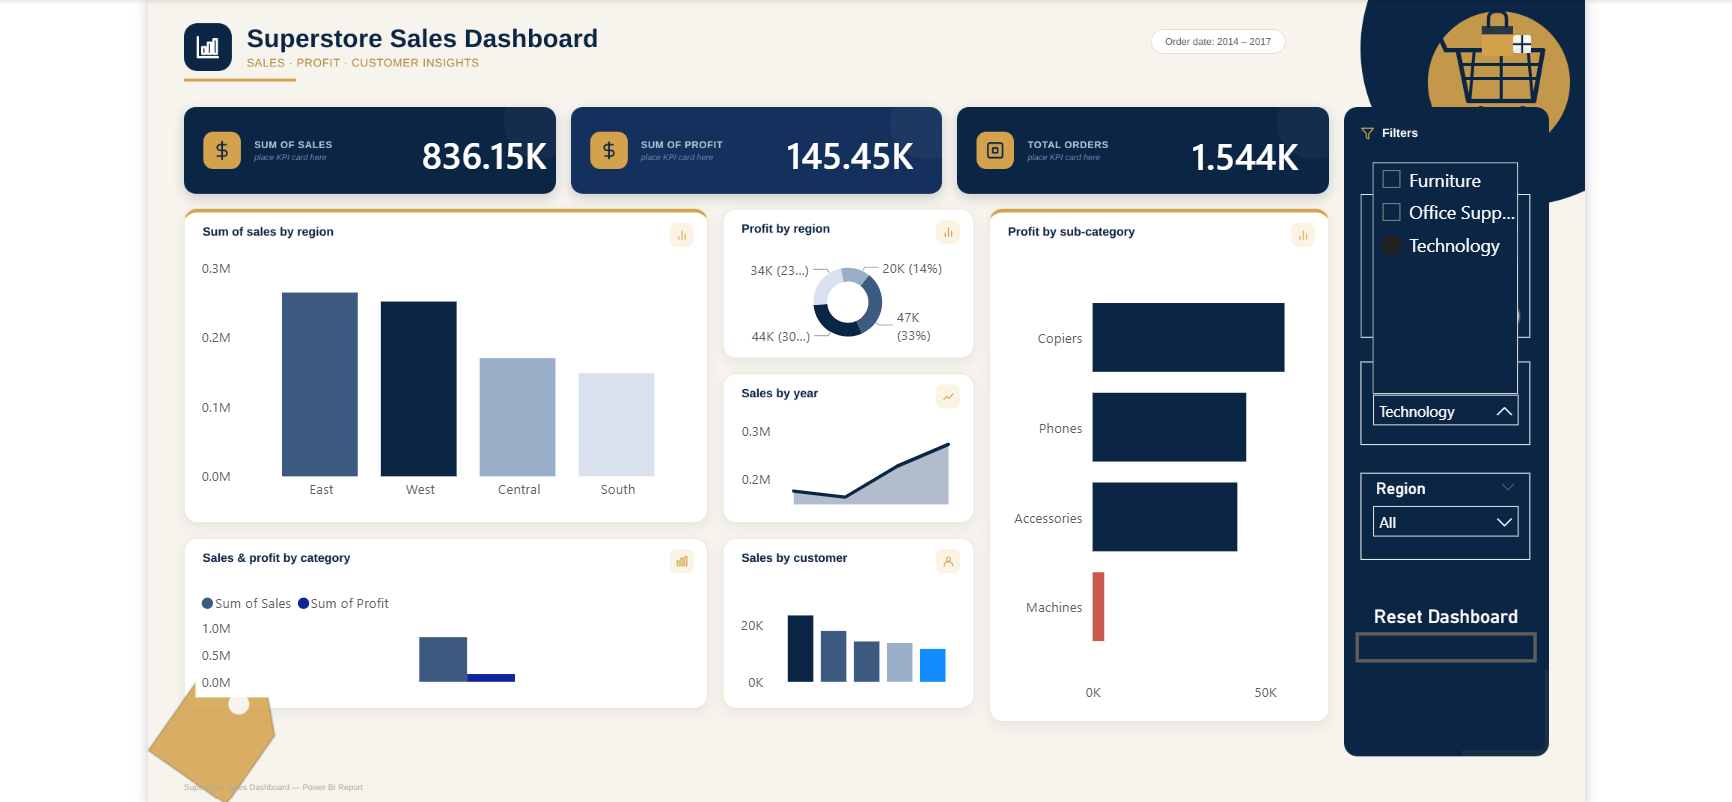

What the dashboard file says about the page in this screenshot:
{"tool":"powerbi","page":{"name":"Page 1","canvas":[1280,720],"ordinal":0},"visuals":[{"type":"cardVisual","fields":{"Data":["Sum(Orders.Sales)"]},"box":[214.8,84.6,200.4,106.9],"z":0},{"type":"cardVisual","fields":{"Data":["Sum(Orders.Profit)"]},"box":[539.9,84.6,200.4,106.9],"z":1000},{"type":"cardVisual","fields":{"Data":["Count(Orders.Order ID)"]},"box":[900.6,87.9,200.4,100.2],"z":2000},{"type":"clusteredColumnChart","fields":{"Category":["Orders.Region"],"Y":["Sum(Orders.Sales)"]},"box":[42.3,226,452,229.3],"z":3000},{"type":"donutChart","fields":{"Category":["Orders.Region"],"Y":["Sum(Orders.Profit)"]},"box":[518.6,225.6,209.3,88.4],"z":4000},{"type":"clusteredColumnChart","fields":{"Category":["Orders.Category"],"Y":["Sum(Orders.Sales)","Sum(Orders.Profit)"]},"box":[42.3,518.7,452,103.5],"z":5000},{"type":"clusteredBarChart","fields":{"Category":["Orders.Sub-Category"],"Y":["Sum(Orders.Profit)"]},"box":[761.4,226,279.4,409.6],"z":6000},{"type":"areaChart","fields":{"Category":["Orders.Order Date.Variation.Date Hierarchy.Year"],"Y":["Sum(Orders.Sales)"]},"box":[523.2,370.7,204.8,84.6],"z":7000},{"type":"clusteredColumnChart","fields":{"Category":["Orders.Customer Name"],"Y":["Sum(Orders.Sales)"]},"box":[523.2,518.7,204.8,103.5],"z":8000},{"type":"shape","box":[1067.4,138.4,176.7,531.4],"z":9000},{"type":"slicer","fields":{"Values":["Orders.Order Date"]},"box":[1079.8,173.7,151.4,128],"z":10000},{"type":"slicer","fields":{"Values":["Orders.Category"]},"box":[1079.8,322.8,151.4,74.6],"z":11000},{"type":"slicer","fields":{"Values":["Orders.Region"]},"box":[1079.8,421.9,151.4,77.9],"z":12000},{"type":"actionButton","title":"Reset Dashboard","box":[1075.3,539.9,161.4,51.2],"z":13000}]}

Visuals, with their boxes on the page's 1280x720 design canvas (x1, y1, x2, y2). These are canvas units, not pixel positions in the 1732x802 screenshot, which may show the page scaled, cropped or inside an application window:
cardVisual - Sum(Orders.Sales): locate(215, 85, 415, 192)
cardVisual - Sum(Orders.Profit): locate(540, 85, 740, 192)
cardVisual - Count(Orders.Order ID): locate(901, 88, 1101, 188)
clusteredColumnChart - Orders.Region x Sum(Orders.Sales): locate(42, 226, 494, 455)
donutChart - Orders.Region x Sum(Orders.Profit): locate(519, 226, 728, 314)
clusteredColumnChart - Orders.Category x Sum(Orders.Sales): locate(42, 519, 494, 622)
clusteredBarChart - Orders.Sub-Category x Sum(Orders.Profit): locate(761, 226, 1041, 636)
areaChart - Orders.Order Date.Variation.Date Hierarchy.Year x Sum(Orders.Sales): locate(523, 371, 728, 455)
clusteredColumnChart - Orders.Customer Name x Sum(Orders.Sales): locate(523, 519, 728, 622)
shape: locate(1067, 138, 1244, 670)
slicer - Orders.Order Date: locate(1080, 174, 1231, 302)
slicer - Orders.Category: locate(1080, 323, 1231, 397)
slicer - Orders.Region: locate(1080, 422, 1231, 500)
"Reset Dashboard" actionButton: locate(1075, 540, 1237, 591)
